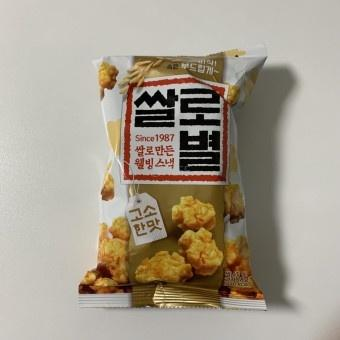snack: (78, 40, 270, 309)
